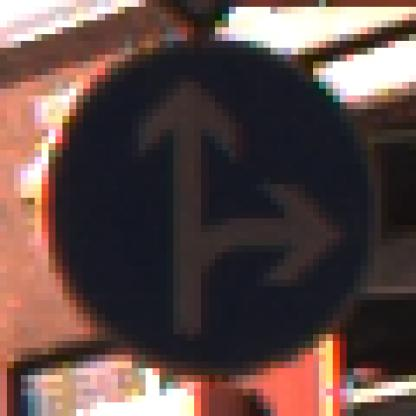Straight or Right: (43, 35, 382, 383)
